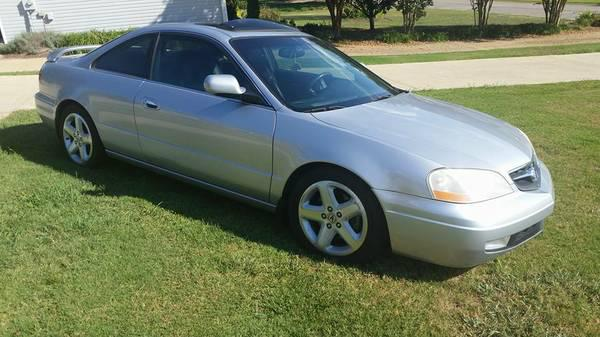acura: (17, 17, 559, 285)
